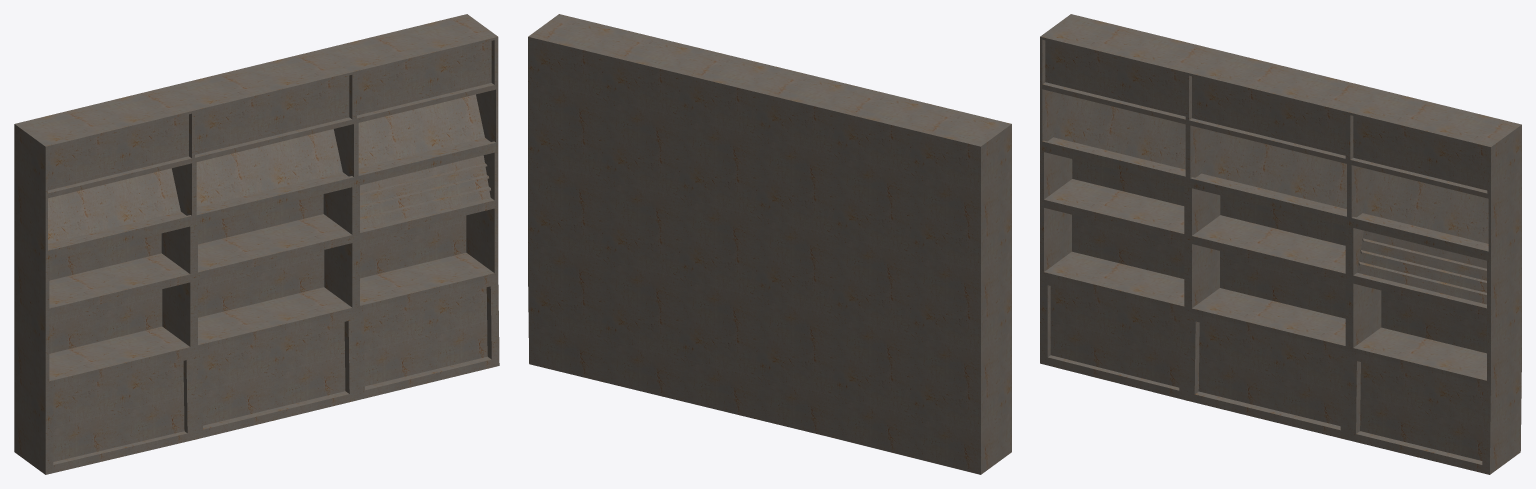
File: SM_Shlef_03.fbx
3 renders of one model, left to right at view 1: azimuth 30°, elevation 25°; view 2: azimuth 150°, elevation 25°; view 3: azimuth 330°, elevation 25°, orthographic.
Parts seen in each view (by area): view 1: SM_Shlef_03; view 2: SM_Shlef_03; view 3: SM_Shlef_03.
Boxes of the visible parts, x1,y1,x2,y2 form: SM_Shlef_03: (14,14,499,474); SM_Shlef_03: (528,14,1011,474); SM_Shlef_03: (1040,14,1521,474).
Size of the model in its own units: 588 by 408 by 72.56.
1 material, 1 textured.
